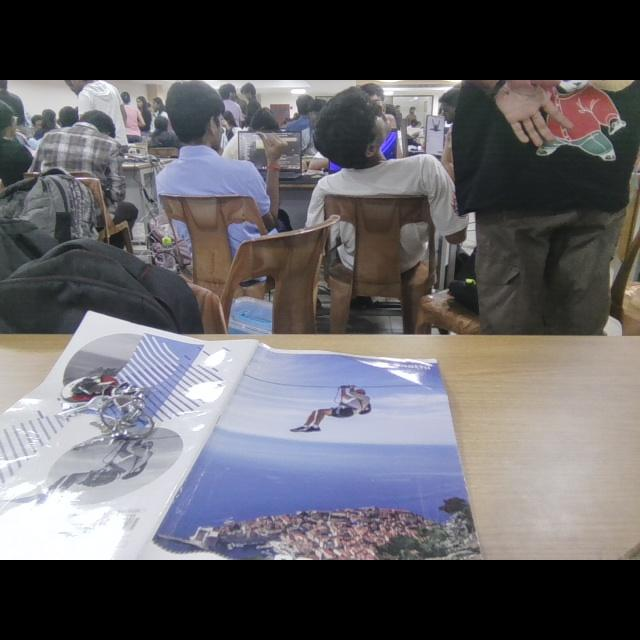keys: (59, 362, 194, 484)
